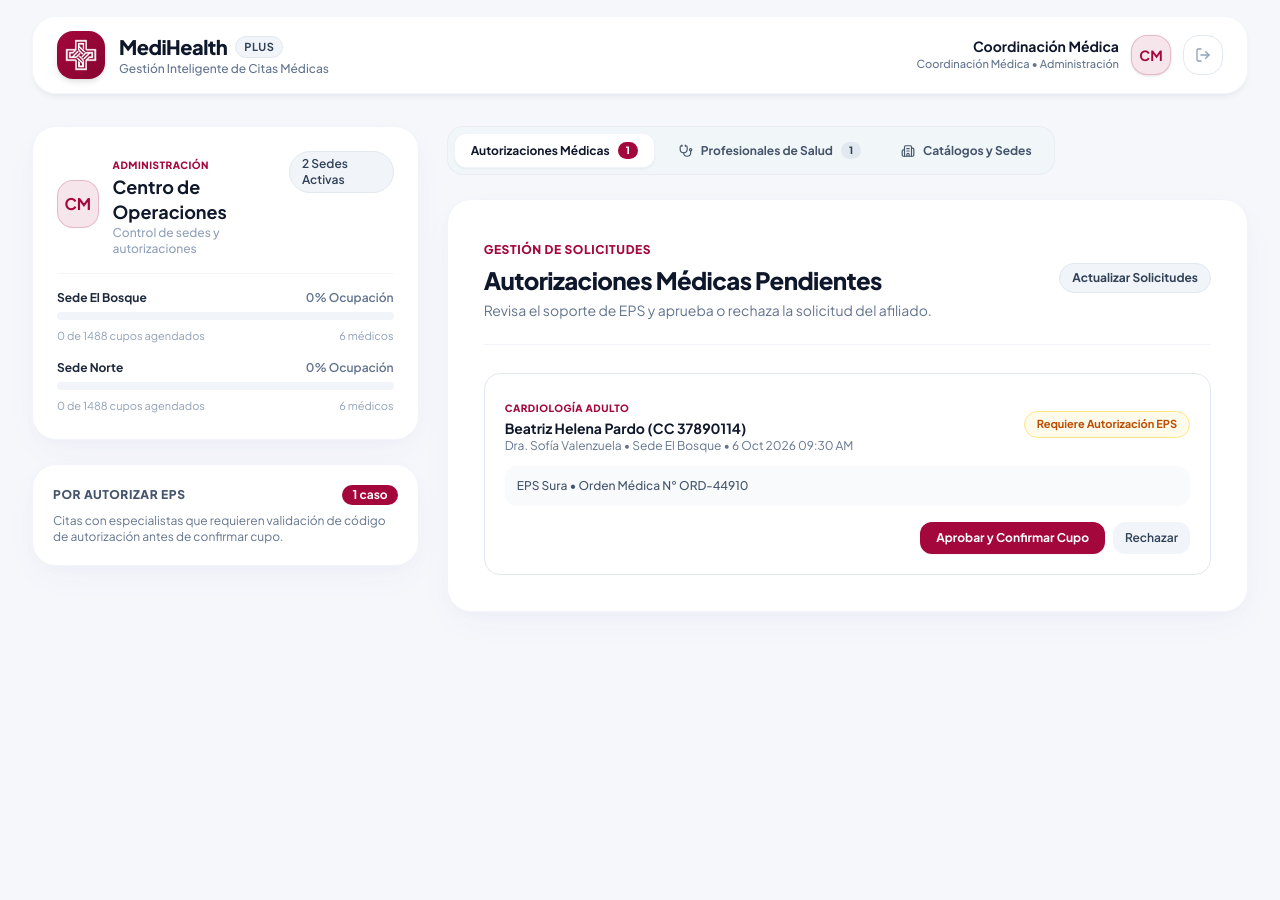
Scenario: Doctor and Admin Views in DashboardScreen (RF-16, RF-17, RF-18) › permite al administrador gestionar profesionales de salud y alternar su estado activo
Navegar a la pestaña de Profesionales de Salud
Click the button "Profesionales de Salud 1": (770, 151) left=663, top=134, right=877, bottom=167
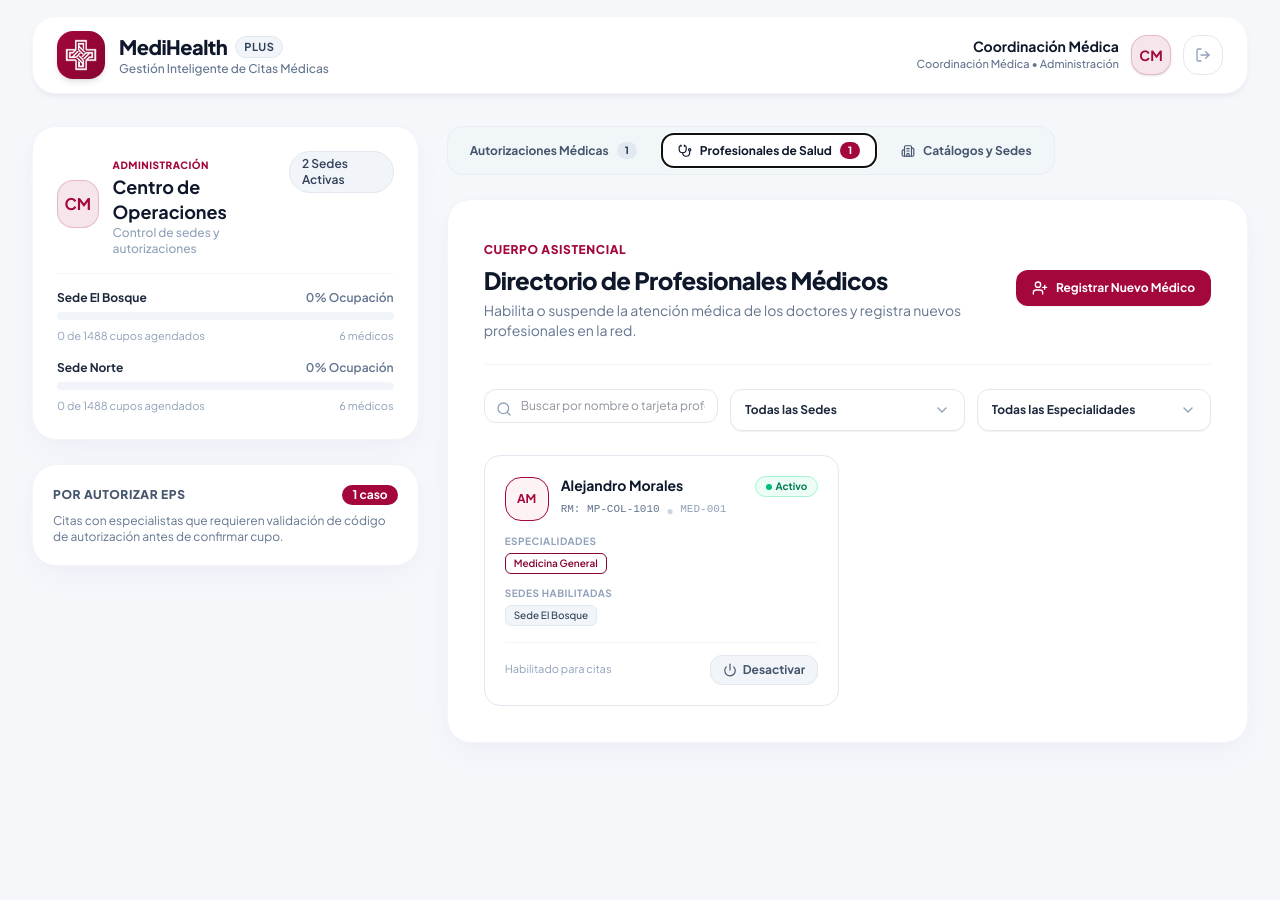
Check: the heading "Alejandro Morales" is shown, box left=561, top=476, right=683, bottom=494
Check: the text "RM: MP-COL-1010" is shown, box left=561, top=501, right=660, bottom=518
Alternar estado a inactivo
Click the button "Desactivar": (764, 670) left=710, top=655, right=818, bottom=685
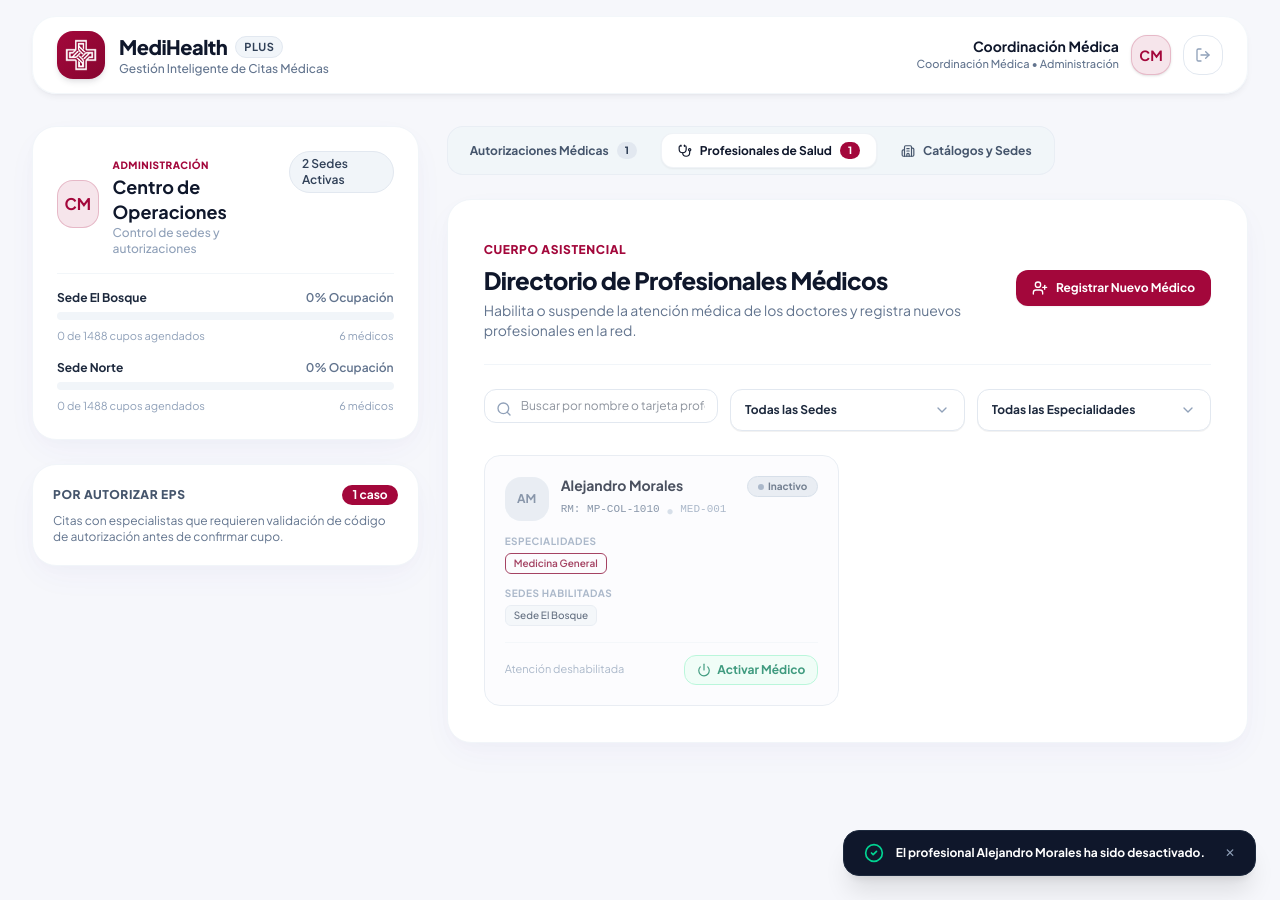
Navegar a la pestaña de Catálogos y Sedes
Click the button "Catálogos y Sedes": (966, 151) left=885, top=135, right=1048, bottom=167
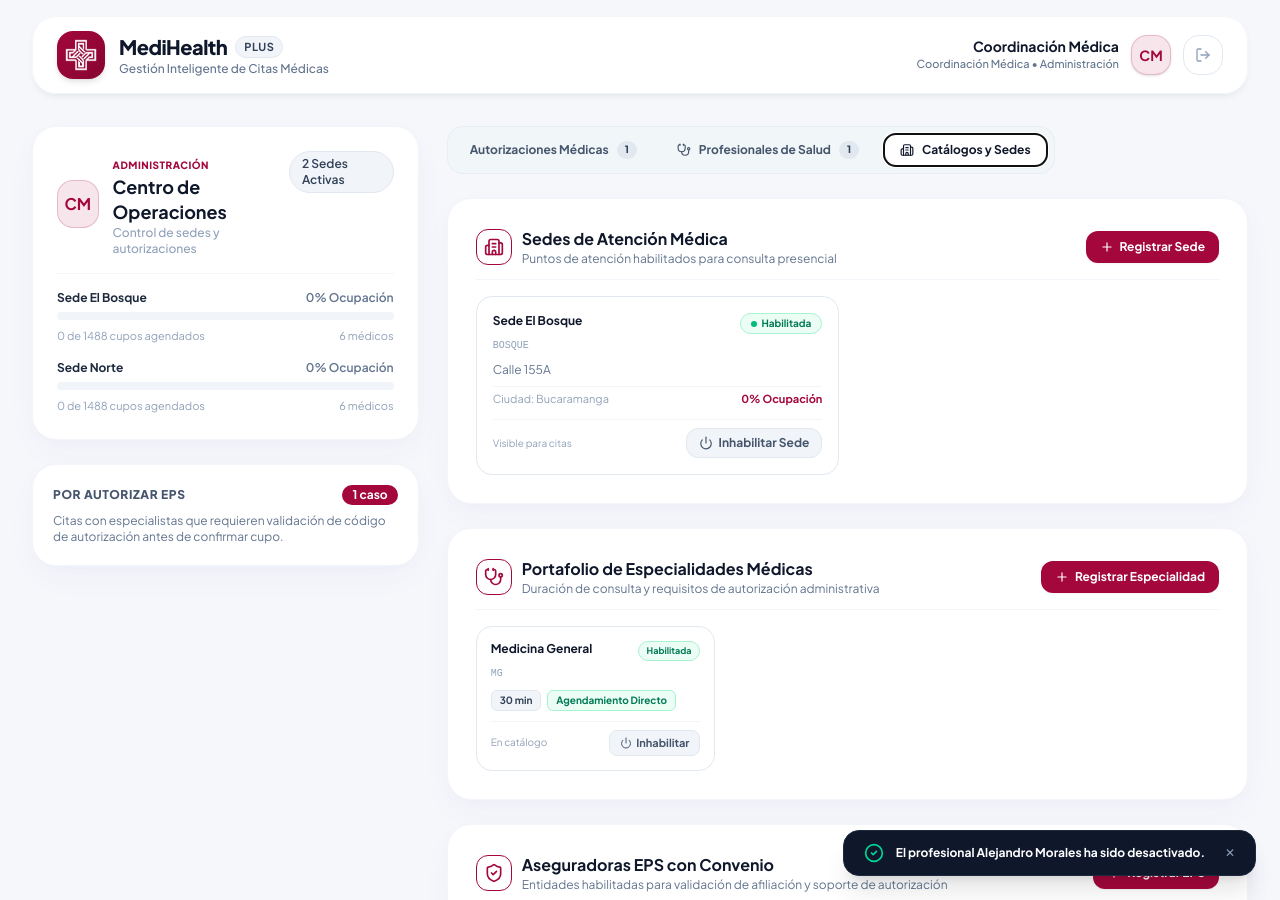
Check: the heading "Sedes de Atención Médica" is shown, box left=522, top=228, right=728, bottom=249
Check: the heading "Portafolio de Especialidades Médicas" is shown, box left=522, top=558, right=813, bottom=579
